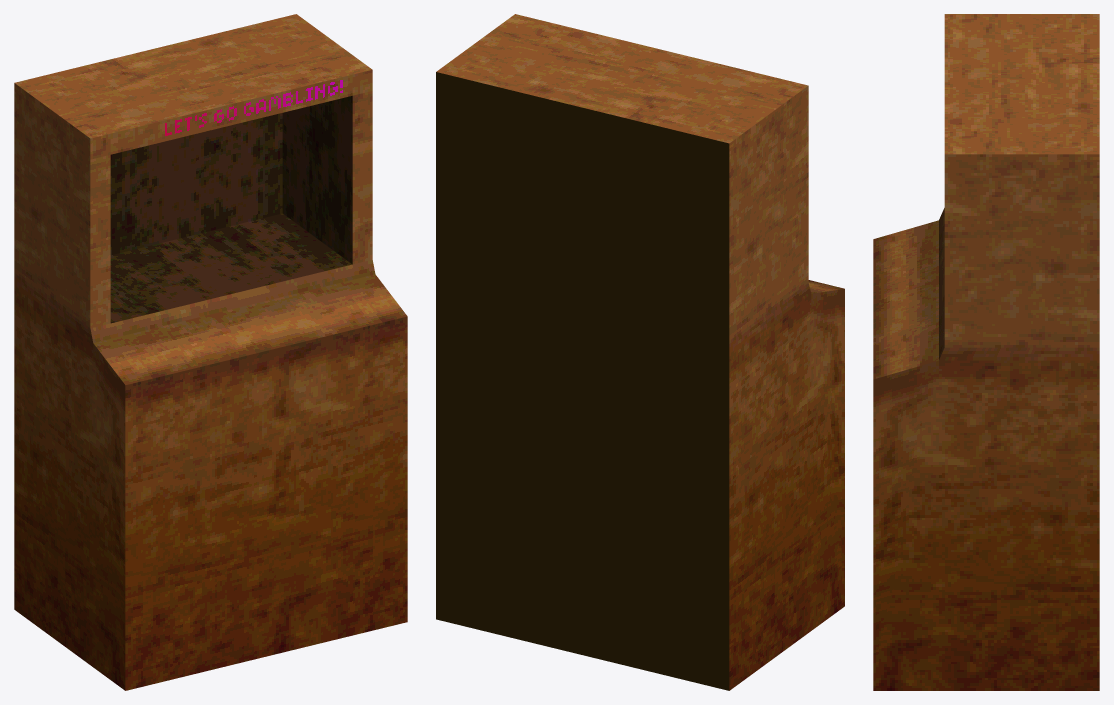
Rendered from slot.glb.
3 views of the same model, side by side, from view 1: azimuth 30°, elevation 25°; view 2: azimuth 150°, elevation 25°; view 3: azimuth 270°, elevation 25° (orthographic). The views are drawn at different scales.
Visible parts, largest first — view 1: GamblingMachine; view 2: GamblingMachine; view 3: GamblingMachine.
Boxes of the visible parts, box(x1,y1,x2,y2) form: GamblingMachine: box(14, 14, 407, 690); GamblingMachine: box(436, 14, 844, 690); GamblingMachine: box(873, 14, 1099, 690).
Bounding box in the file's own units: 0.8863 × 1.58 × 0.6047.
Materials: 1 (1 with a texture image).
